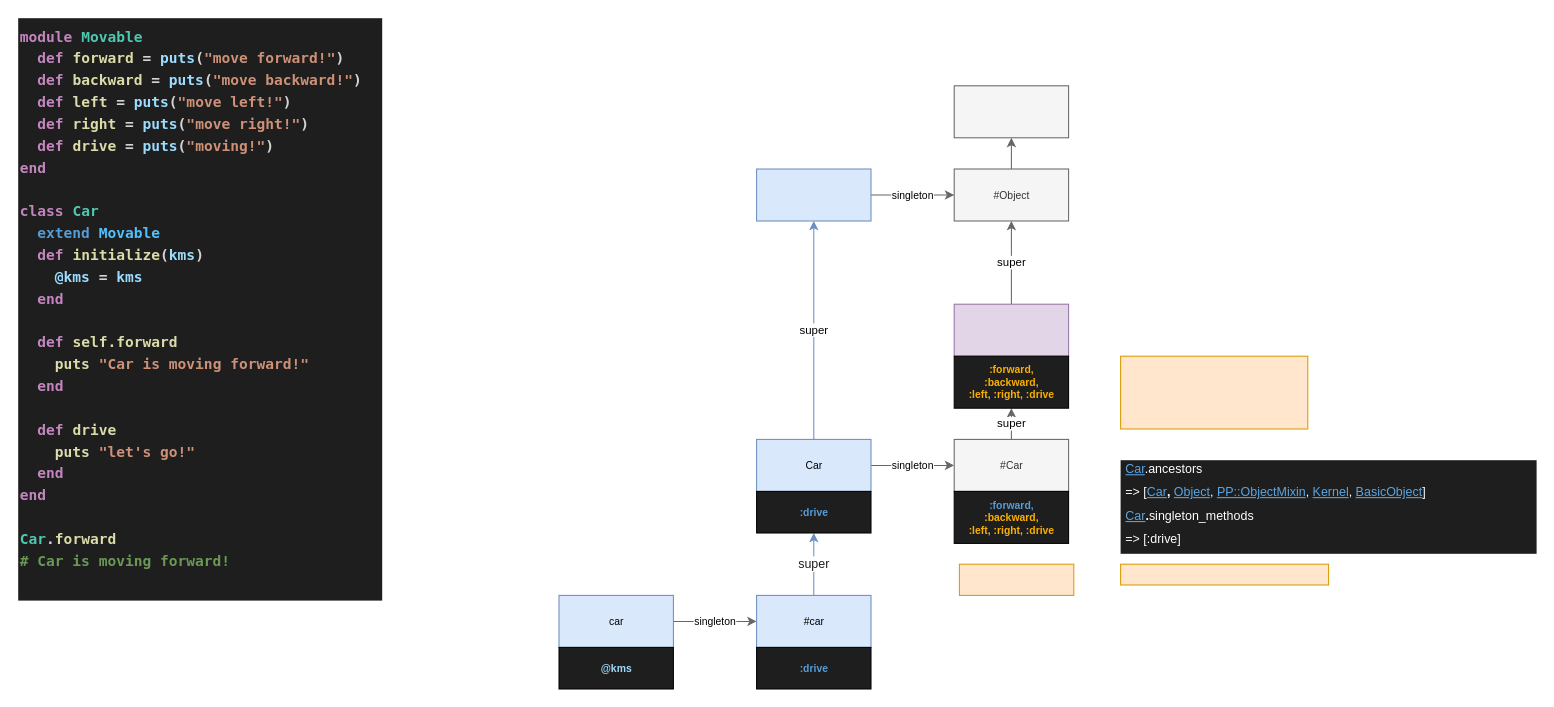
Some shapes in this 1554 by 707 pixel diagram are drawn without their labels. The centre of each missing label's shape, as x and y in pixels:
Class: point 1011,111
Movable: point 1011,329
Object: point 813,194
看不到 Singleton Class 的繼承鏈。: point 1224,574
繼承 Movable 所以 不會複寫 forward。: point 1016,579
類似由 Car 的 Singleton Class 去繼承 Movable: point 1214,392
